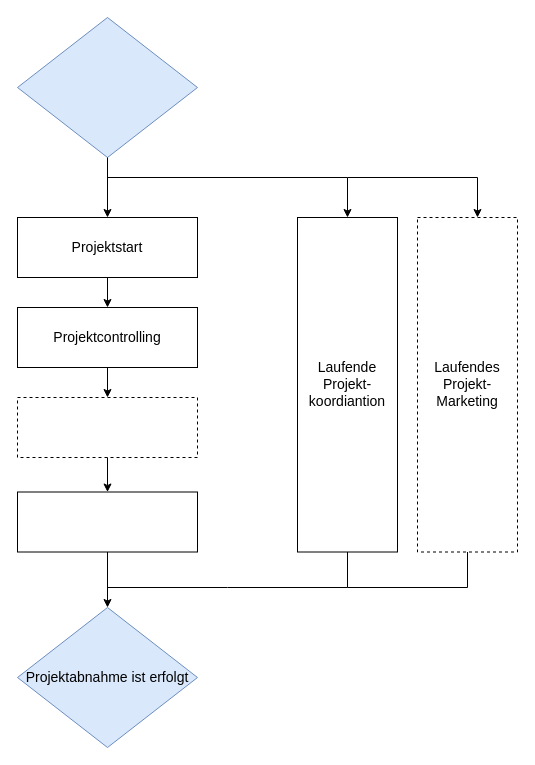
Image size: 535x765. Some labels were removed from this diagram. The box of each missing label's shape, as (x1, y1, x2, y2) in pixels:
Bewältigung einer Projektkrise: (16, 396, 198, 458)
Projektabschluss: (16, 491, 198, 552)
Projektbeauftragung ist erfolgt: (16, 16, 198, 158)
